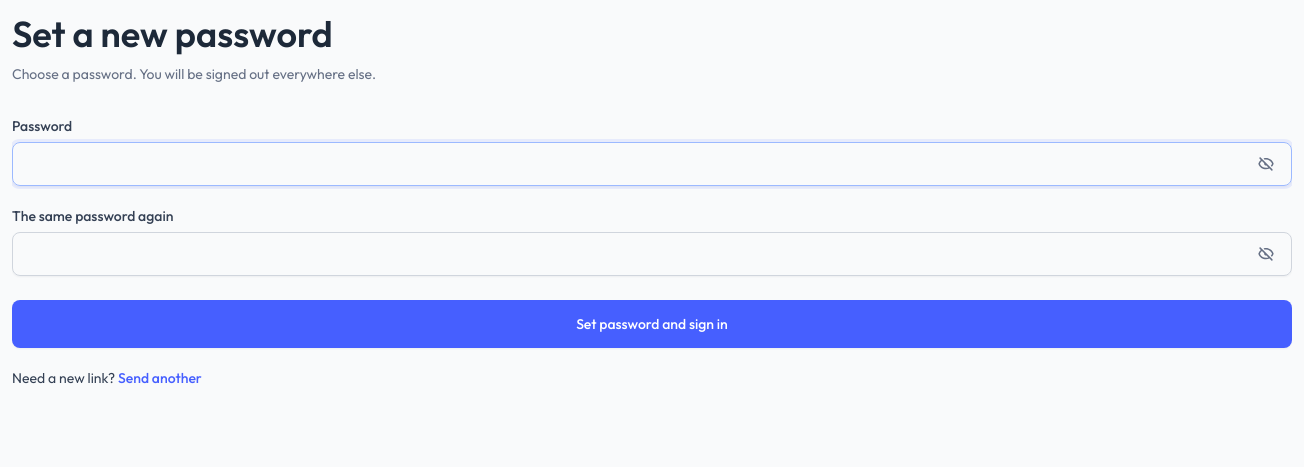
Test case: forgot and reset password (P1-089) › stops two different passwords before asking the API
Step 1. Type "a-good-password" into the password field labelled "Password" → (652, 164), box [12, 142, 1292, 186]
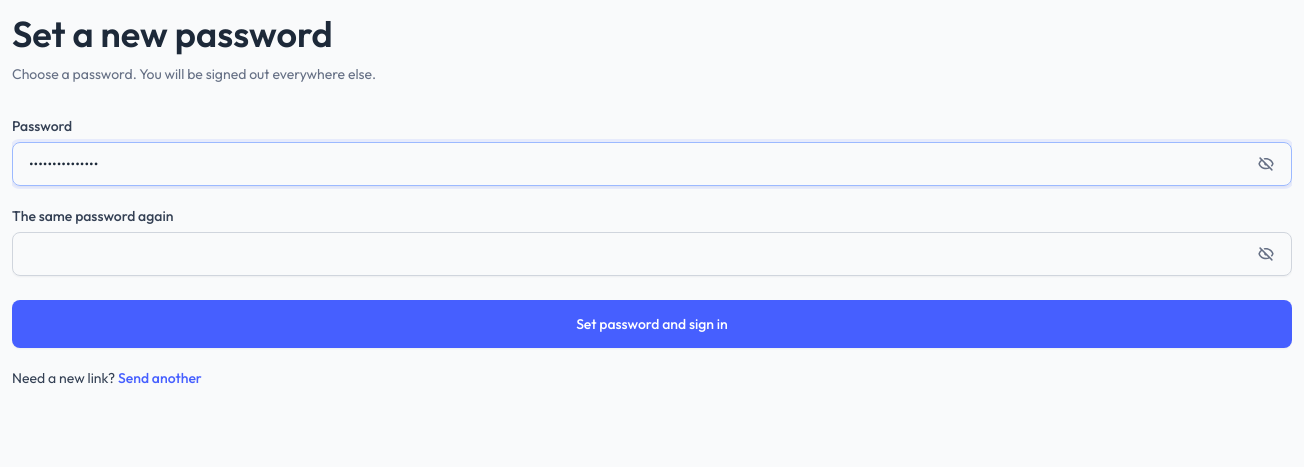
Step 2. Type "another-password" into the password field labelled "The same password again" → (652, 254), box [12, 232, 1292, 276]
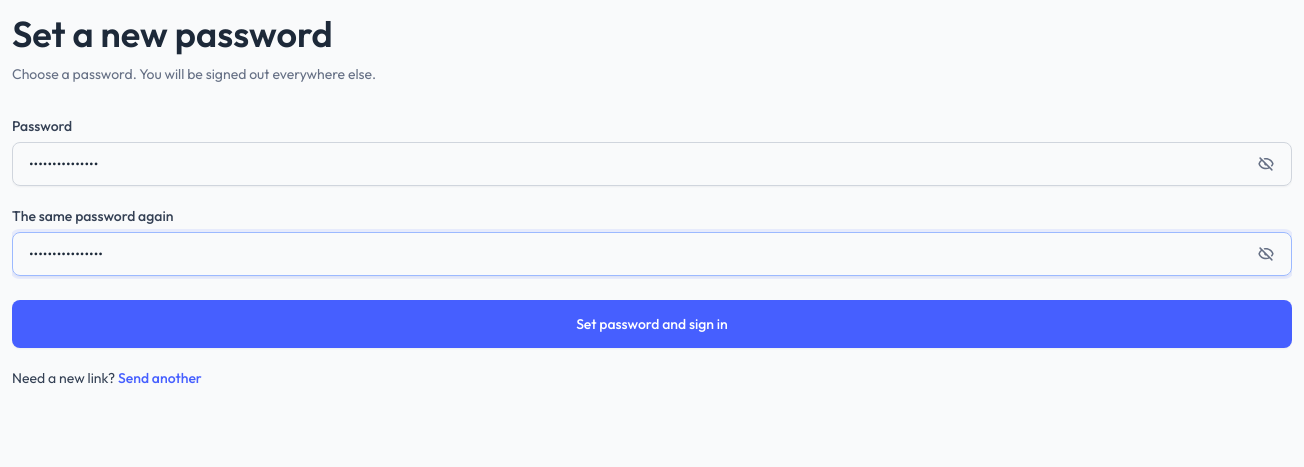
Step 3. Click the button "Set password and sign in" → (652, 324), box [12, 300, 1292, 348]
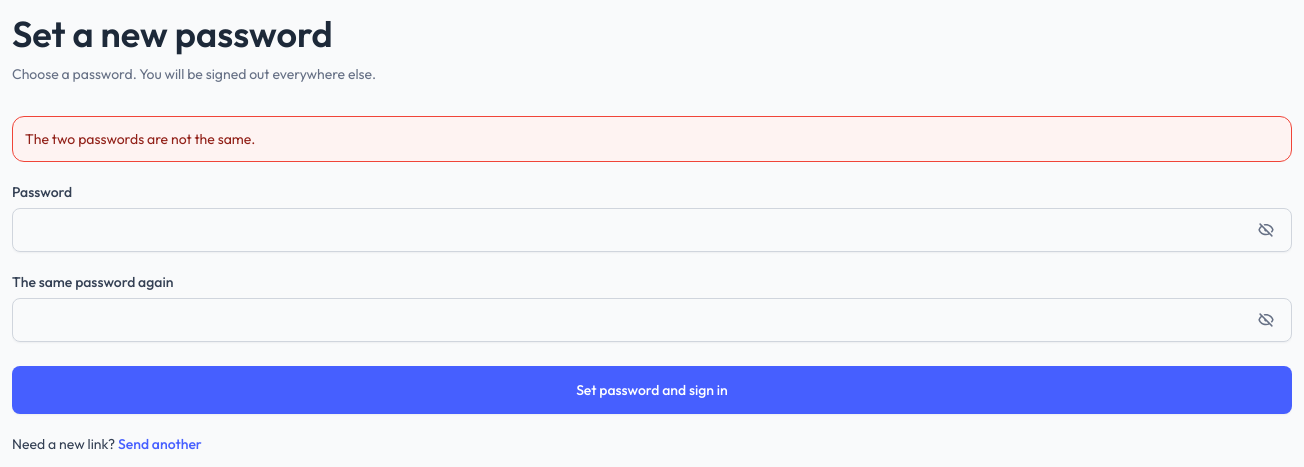
Now the message reads "The two passwords are not the same.", box [25, 130, 255, 148]
